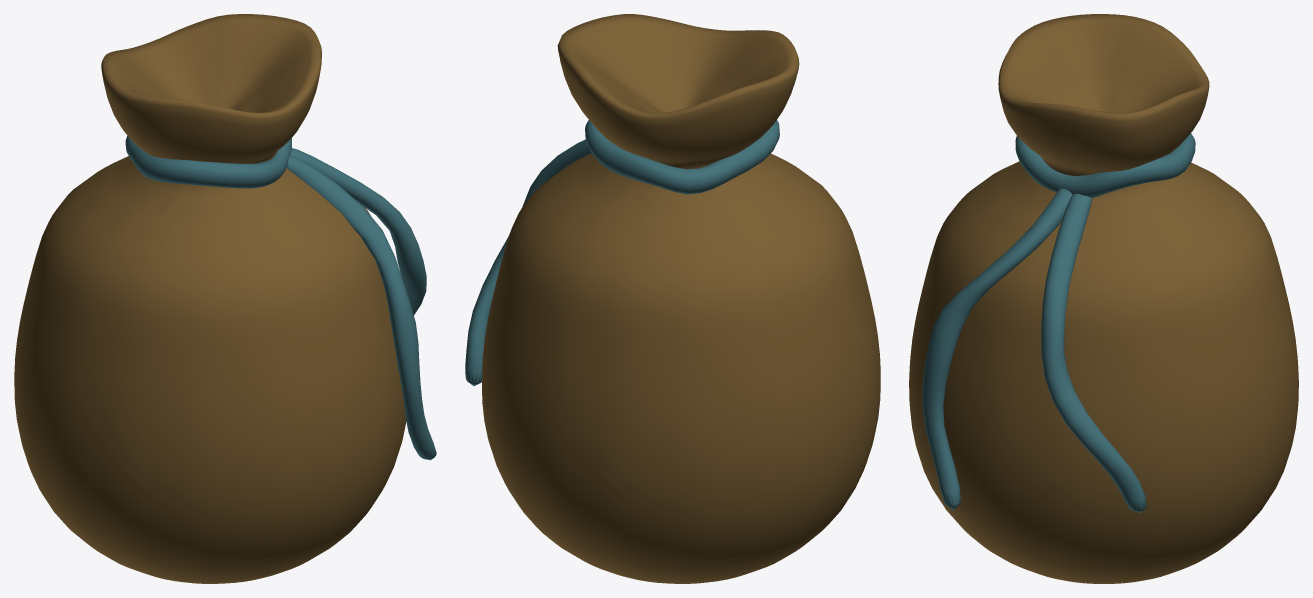
Rendered from plerb-seed.fbx.
3 views of the same model, side by side, from view 1: azimuth 30°, elevation 25°; view 2: azimuth 150°, elevation 25°; view 3: azimuth 270°, elevation 25° (orthographic). The views are drawn at different scales.
Parts seen in each view (by area): view 1: Cylinder.096; view 2: Cylinder.096; view 3: Cylinder.096.
Part boxes in pixels (x1=…): Cylinder.096: x1=14, y1=14, x2=436, y2=583; Cylinder.096: x1=465, y1=14, x2=880, y2=583; Cylinder.096: x1=909, y1=14, x2=1298, y2=583.
Size of the model in its own units: 17.67 by 22.4 by 16.15.
